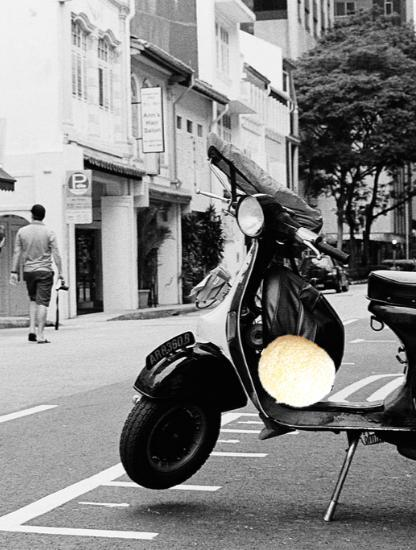Cantaloupe: (256, 333, 335, 412)
